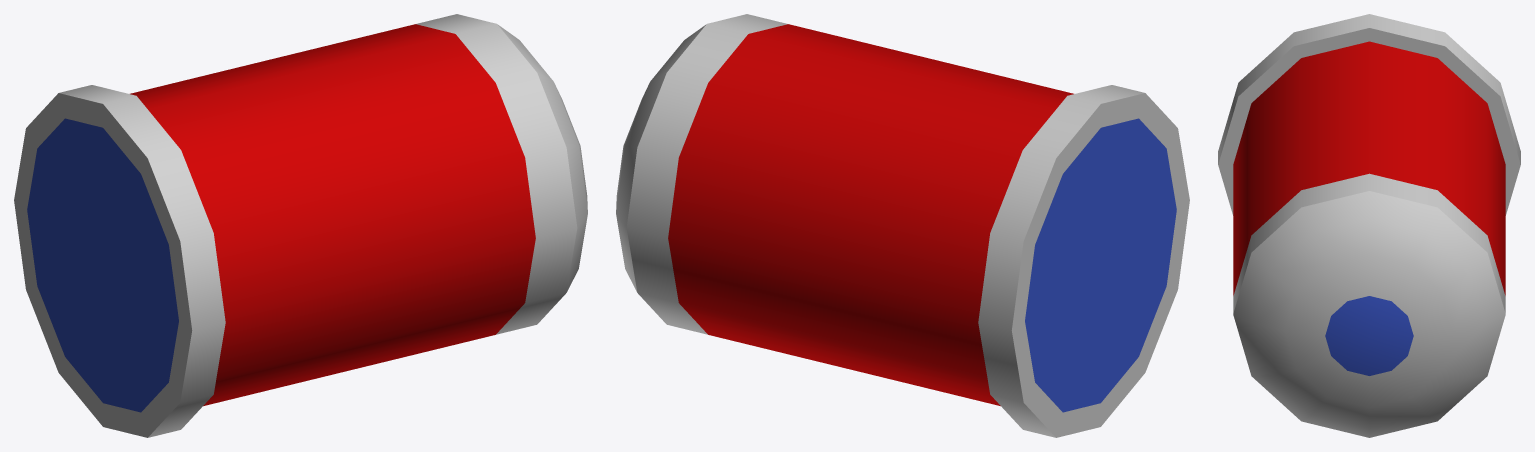
Rendered from bullet.fbx.
3 views of the same model, side by side, from view 1: azimuth 30°, elevation 25°; view 2: azimuth 150°, elevation 25°; view 3: azimuth 270°, elevation 25° (orthographic). The views are drawn at different scales.
Visible parts, largest first — view 1: Bullet; view 2: Bullet; view 3: Bullet.
Boxes of the visible parts, box(x1,y1,x2,y2) form: Bullet: box(14, 14, 587, 437); Bullet: box(616, 14, 1189, 437); Bullet: box(1218, 14, 1520, 437).
Size of the model in its own units: 3.95 by 2.71 by 2.71.
